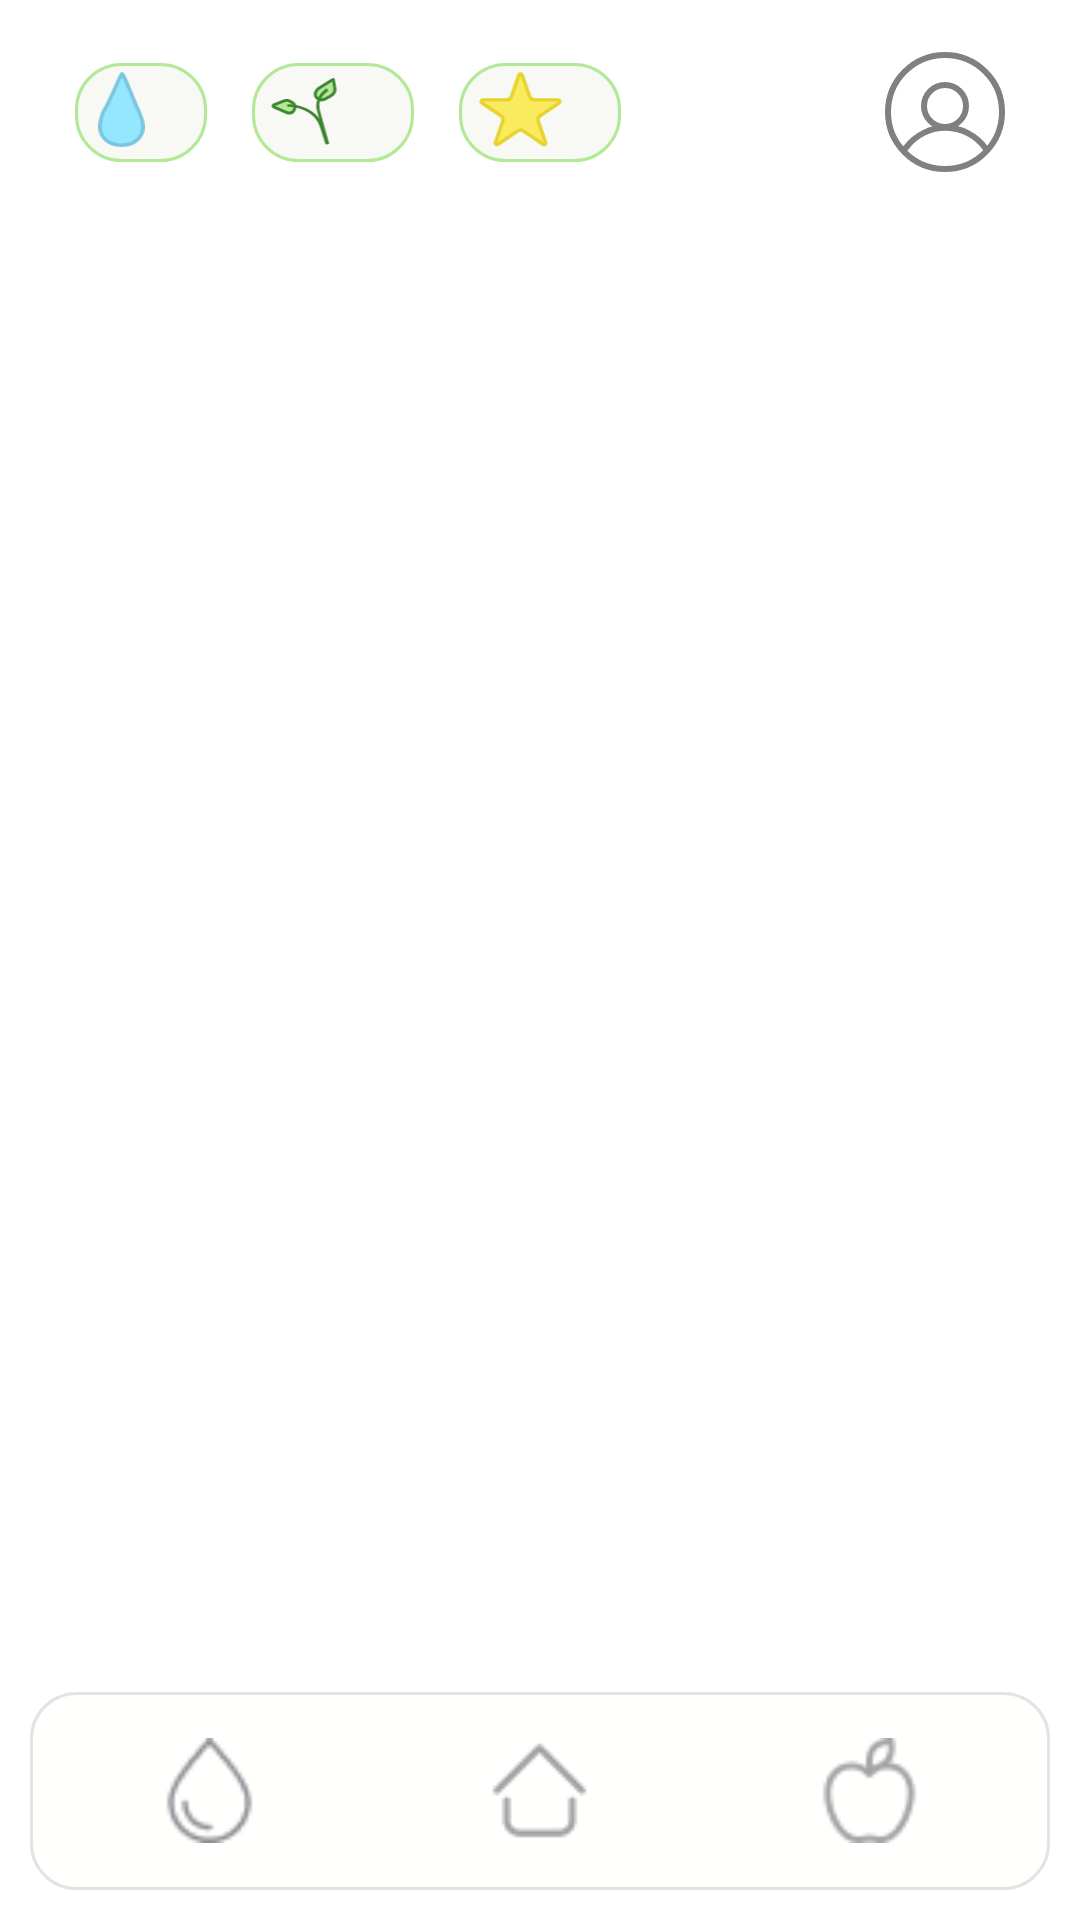

Locate icon controls on the screen. Image size 1080×1920, boxes as (x1, y1, x2, y2).
drop: (98, 72, 145, 147)
level star: (479, 72, 562, 147)
plant point: (271, 78, 337, 145)
user: (885, 52, 1005, 172)
